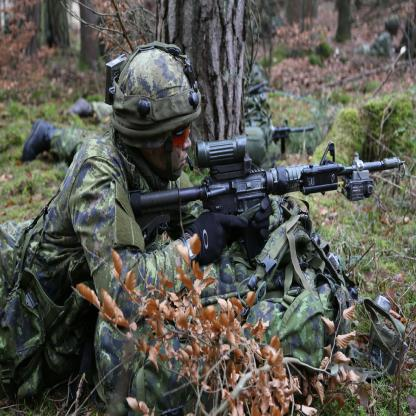Helmet: (103, 46, 202, 179)
